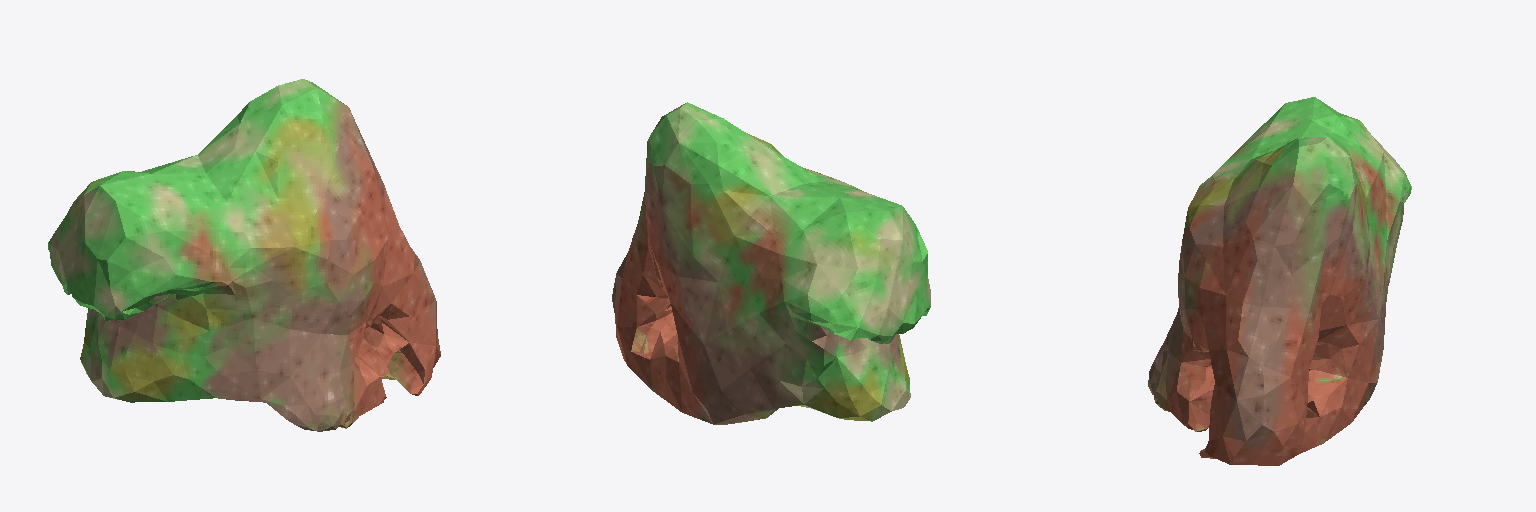
The picture shows the model from 3 angles: view 1: azimuth 30°, elevation 25°; view 2: azimuth 150°, elevation 25°; view 3: azimuth 270°, elevation 25°; orthographic projection.
Parts seen in each view (by area): view 1: art_stoneblood_Icosphere; view 2: art_stoneblood_Icosphere; view 3: art_stoneblood_Icosphere.
Boxes of the visible parts, x1,y1,x2,y2 form: art_stoneblood_Icosphere: [48, 79, 440, 431]; art_stoneblood_Icosphere: [612, 102, 930, 424]; art_stoneblood_Icosphere: [1148, 97, 1411, 465].
Bounding box in the file's own units: 3.06 × 2.59 × 2.12.
1 materials, 1 textured.